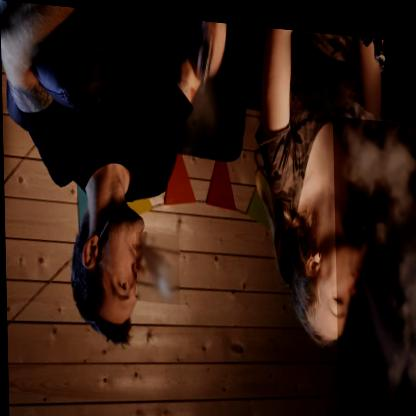smoke: (332, 109, 416, 416), (135, 229, 179, 301)
